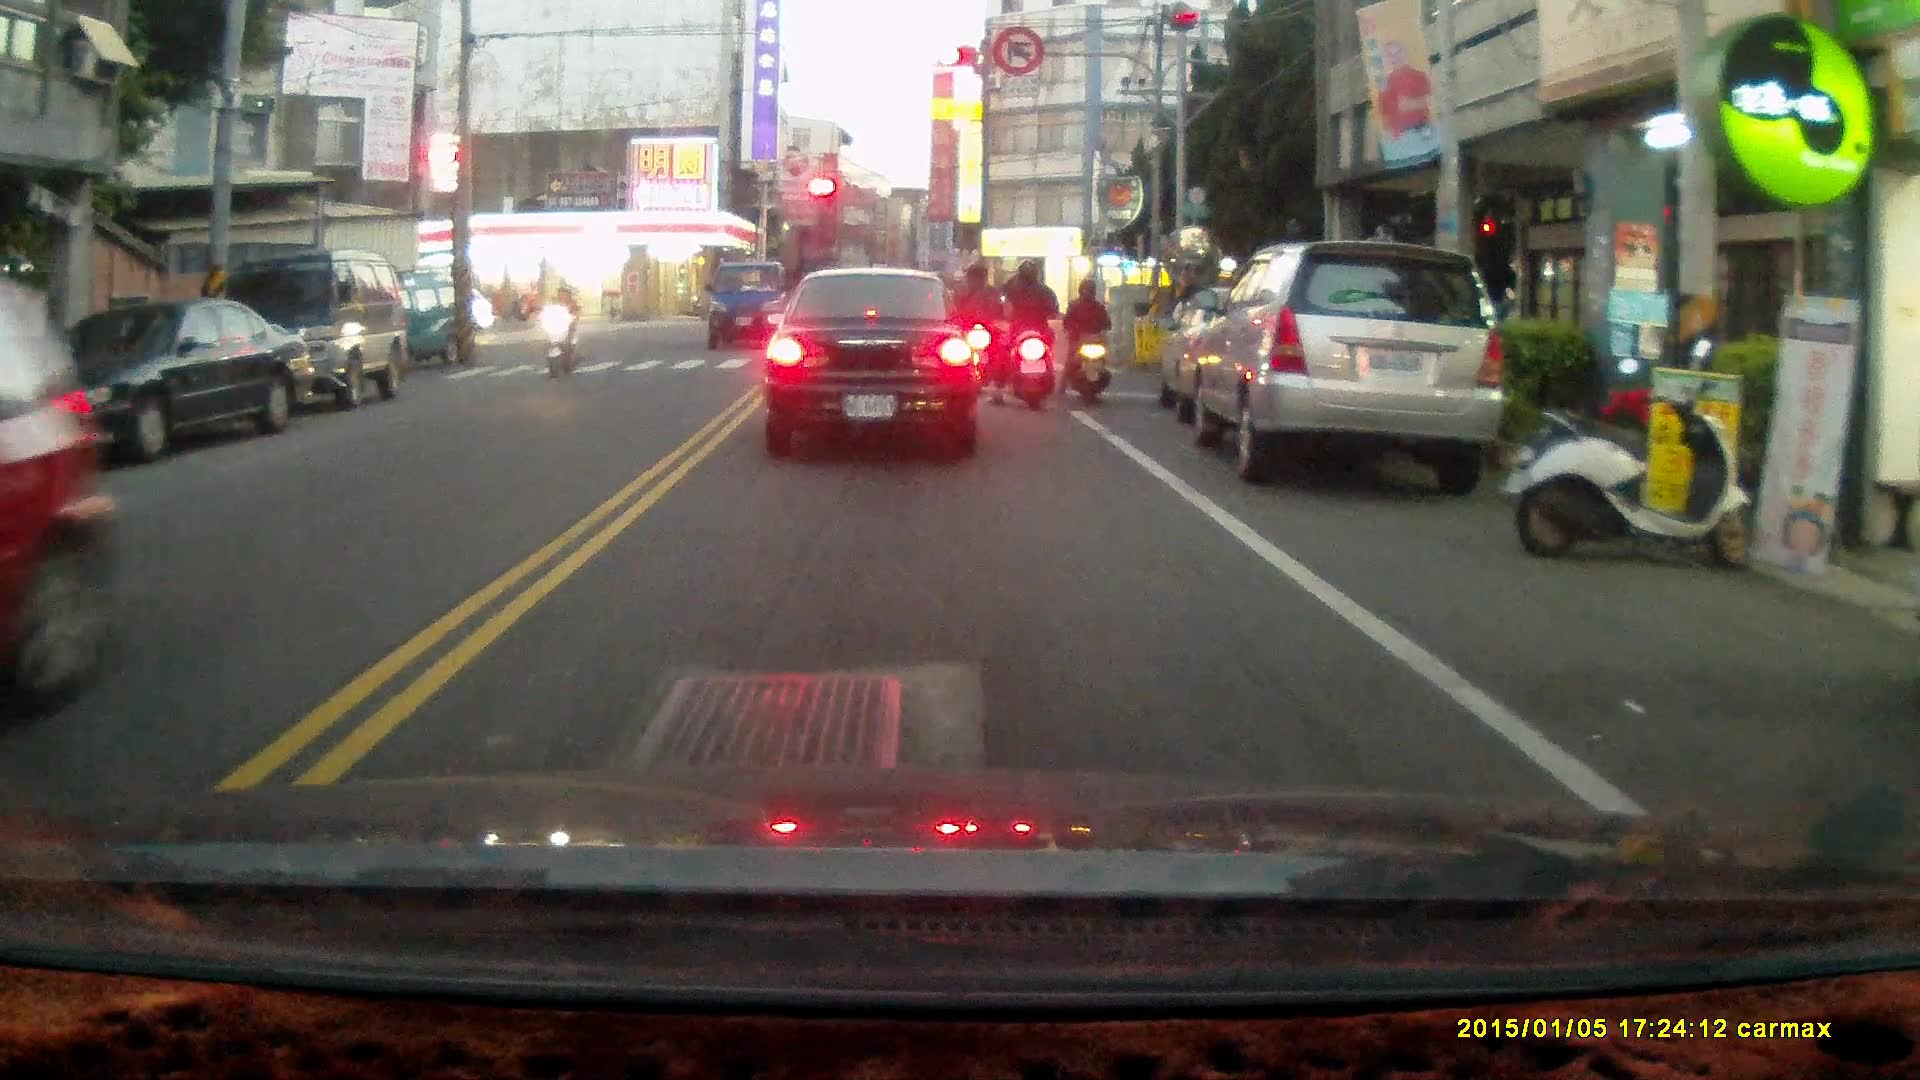rider: (989, 257, 1063, 415), (1057, 275, 1114, 404), (949, 263, 999, 391), (546, 282, 582, 381)
vehicle: (1179, 241, 1499, 486), (1, 263, 128, 720), (29, 297, 300, 467), (768, 267, 987, 457), (194, 246, 406, 407)
